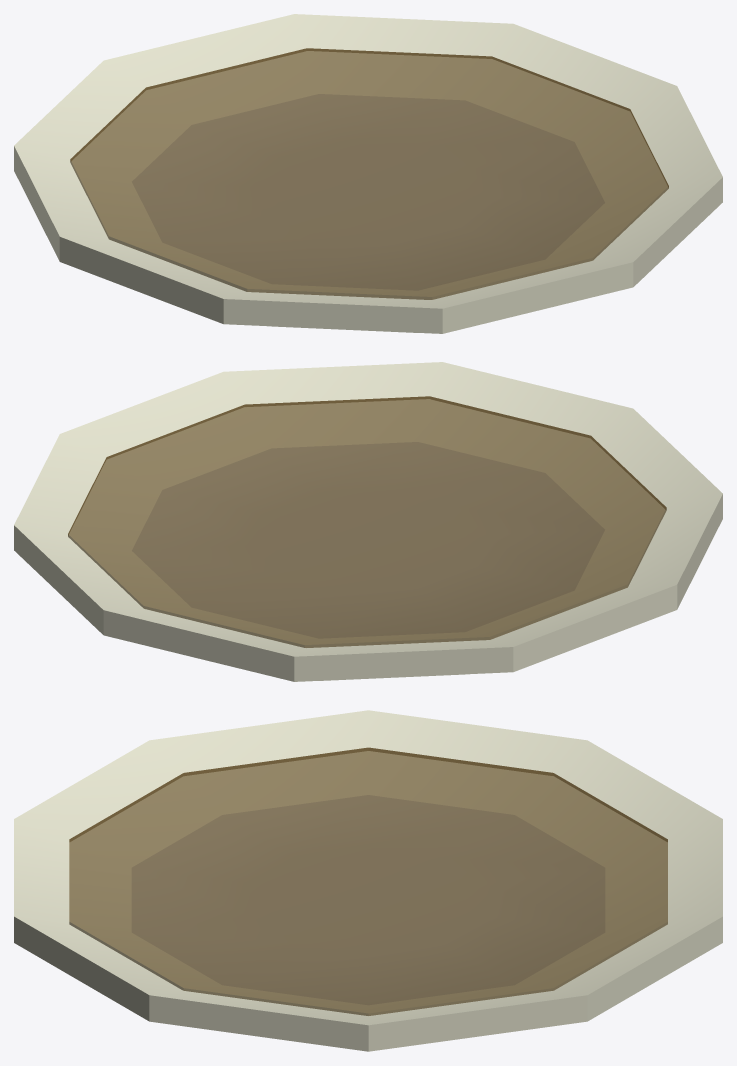
The model's file is Dirty_Plate.fbx.
The picture shows the model from 3 angles, top to bottom: view 1: azimuth 30°, elevation 25°; view 2: azimuth 150°, elevation 25°; view 3: azimuth 270°, elevation 25°; orthographic projection. The views are drawn at different scales.
Parts seen in each view (by area): view 1: Plate3; view 2: Plate3; view 3: Plate3.
Boxes of the visible parts, x1,y1,x2,y2 form: Plate3: [14, 14, 722, 333]; Plate3: [14, 362, 722, 681]; Plate3: [14, 710, 722, 1051].
Bounding box in the file's own units: 34.67 × 3.93 × 32.98.
